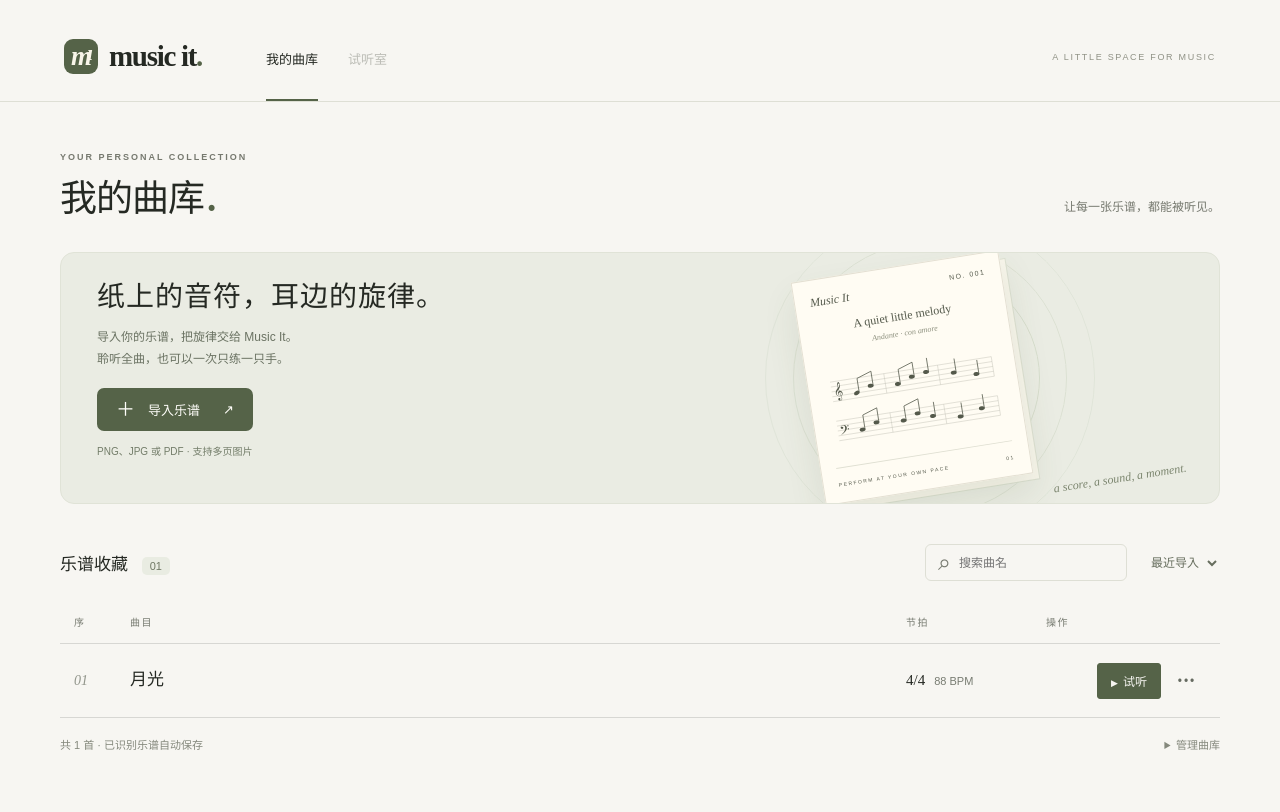
App › clears a search with no results
Type "不存在" into the search field with test id "catalog-search".
click(1036, 563); type("不存在")  # box [959,554,1114,572]
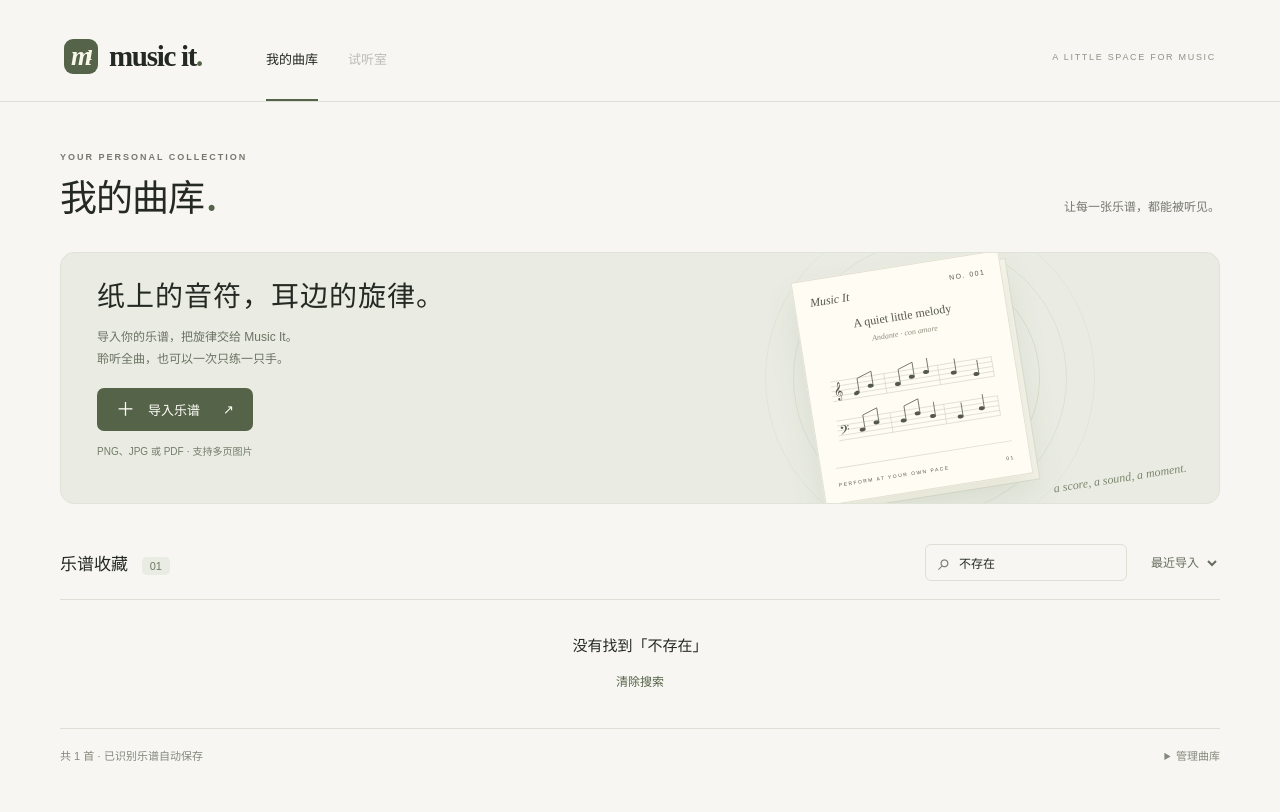
Check: the text "没有找到「不存在」" is shown, box [572,637,708,654]
Click the button "清除搜索".
click(640, 681)  # box [616,667,664,694]
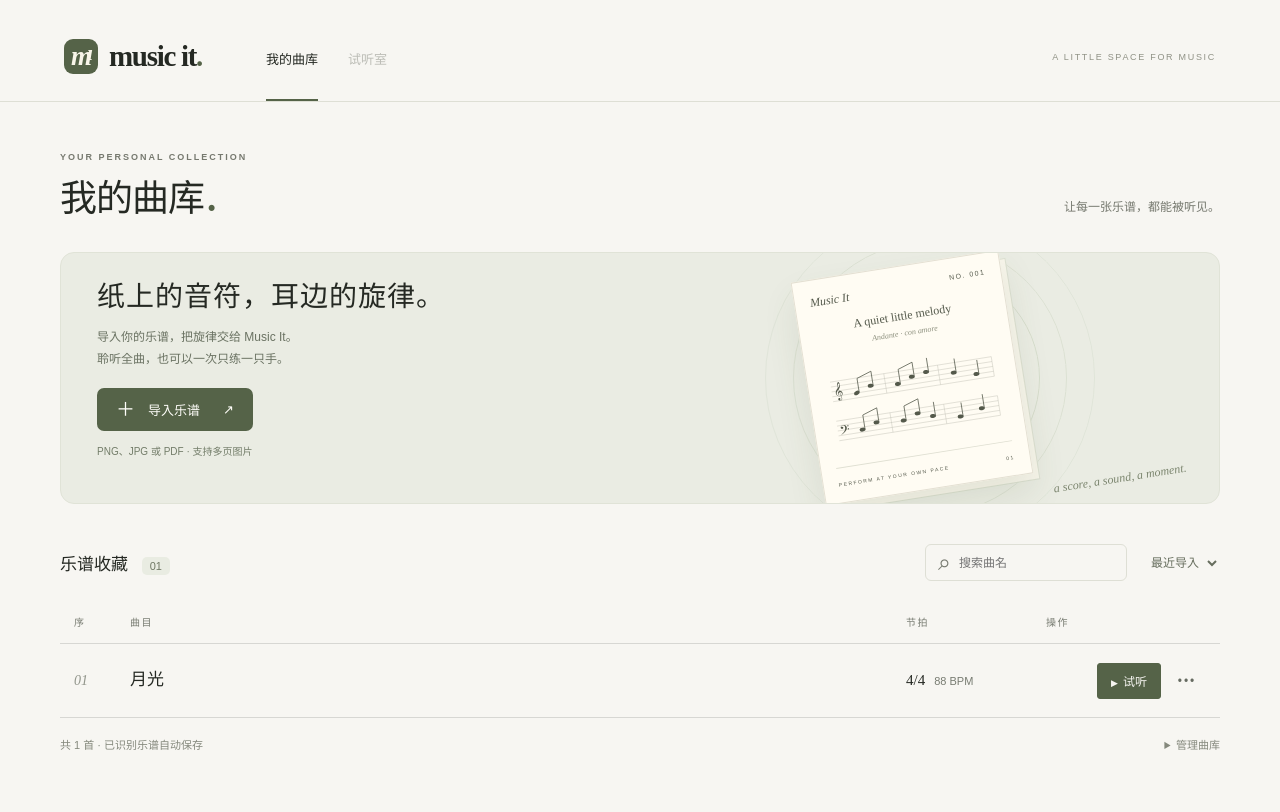
Check: the search field with test id "catalog-search" is empty, box [959,554,1114,572]
Check: the text "月光" is shown, box [130,661,164,700]
